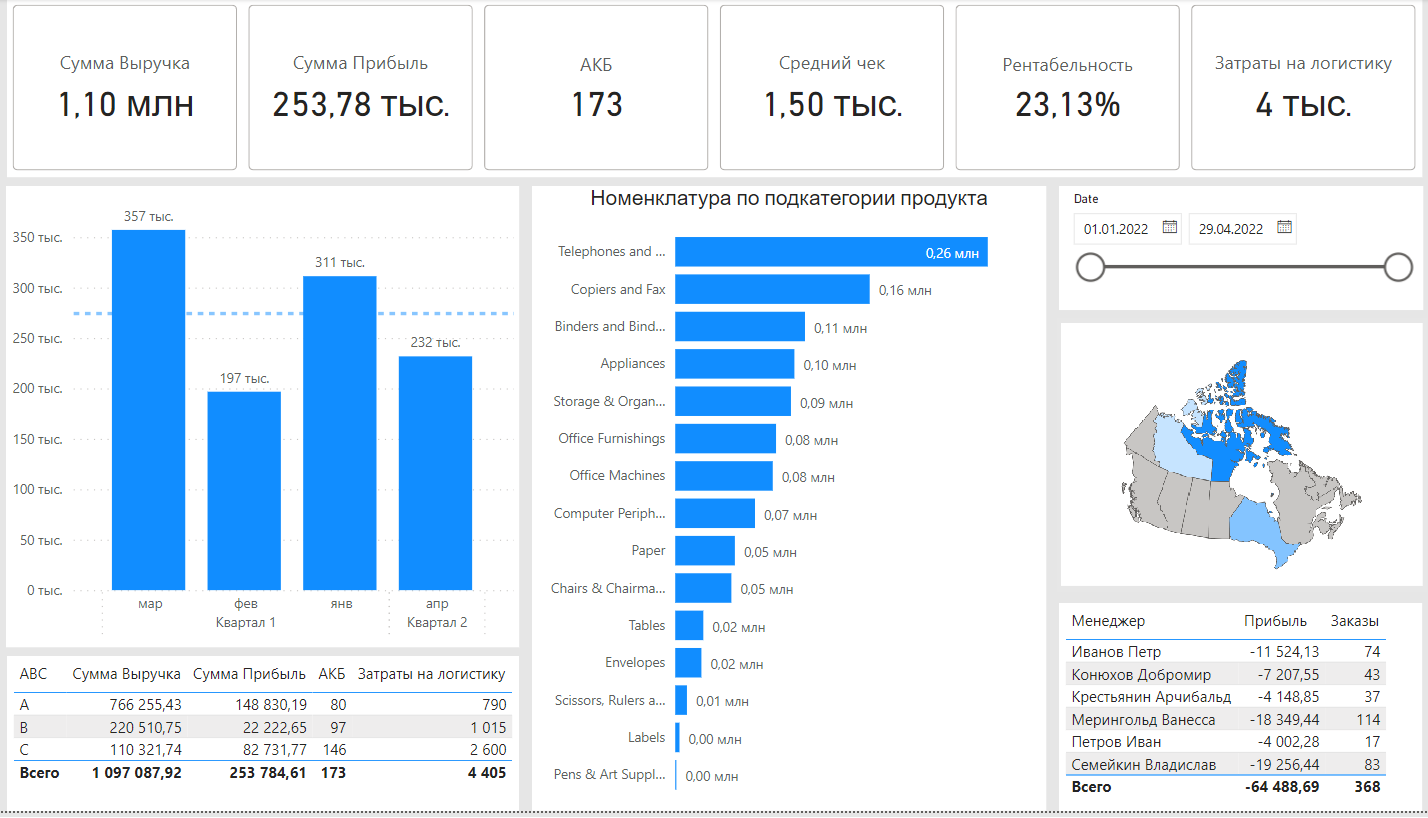

This screenshot's page, from the dashboard's own definition file:
{"tool":"powerbi","page":{"name":"Дашборд","canvas":[1280,720],"ordinal":0},"visuals":[{"type":"tableEx","fields":{"Values":["Продажи.ABC","Продажи.Выручка","Продажи.Прибыль","Продажи.АКБ","Продажи.Затраты на логистику"]},"box":[13.5,582.4,453.7,138.1],"z":0},{"type":"tableEx","fields":{"Values":["Продажи.Менеджеры1","Продажи.Отрицательные","Продажи.Кол-во по фильтру"]},"box":[945.7,535.7,321.8,184.8],"z":1000},{"type":"barChart","title":"Номенклатура по подкатегории продукта","fields":{"Category":["Продажи.Подкатегория_продукта"],"Y":["Продажи.Выручка"]},"box":[479,166.2,456.1,553.8],"z":2000},{"type":"map","title":"Распределение на карте","fields":{"Category":["Продажи.Регион"],"Size":["Продажи.Выручка"]},"box":[945.4,282.7,322.5,240.1],"z":3000},{"type":"clusteredColumnChart","fields":{"Category":["Calendar.Квартал","Calendar.Месяц"],"Y":["Продажи.Выручка"]},"box":[12.5,166.2,455.1,409.4],"z":4000},{"type":"cardVisual","fields":{"Data":["Продажи.Выручка","Продажи.Прибыль","Продажи.АКБ","Продажи.Средний чек по выручке","Продажи.Рентабельность","Продажи.Затраты на логистику"]},"box":[13.5,0,1255.1,157.8],"z":5000},{"type":"slicer","fields":{"Values":["Calendar.Date"]},"box":[946.3,165.9,322.5,110.3],"z":5001}]}

Visuals, with their boxes in screenshot pixels (x1, y1, x2, y2), scaled from the page's 1280x720 canvas onto the 1428x818 screenshot:
tableEx - Продажи.ABC x Продажи.Выручка: [x1=15, y1=662, x2=521, y2=817]
tableEx - Продажи.Менеджеры1 x Продажи.Отрицательные: [x1=1055, y1=609, x2=1414, y2=817]
"Номенклатура по подкатегории продукта" barChart: [x1=534, y1=189, x2=1043, y2=817]
"Распределение на карте" map: [x1=1055, y1=321, x2=1415, y2=594]
clusteredColumnChart - Calendar.Квартал x Calendar.Месяц: [x1=14, y1=189, x2=522, y2=654]
cardVisual - Продажи.Выручка x Продажи.Прибыль: [x1=15, y1=0, x2=1415, y2=179]
slicer - Calendar.Date: [x1=1056, y1=188, x2=1416, y2=314]
